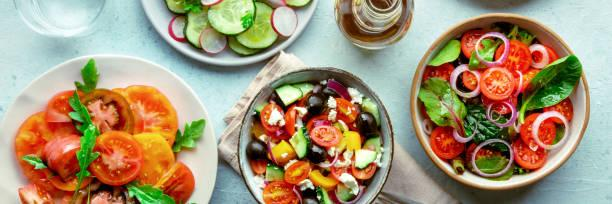Braised Crucian Carp: (409, 14, 588, 196), (1, 53, 217, 202), (235, 65, 391, 202)
